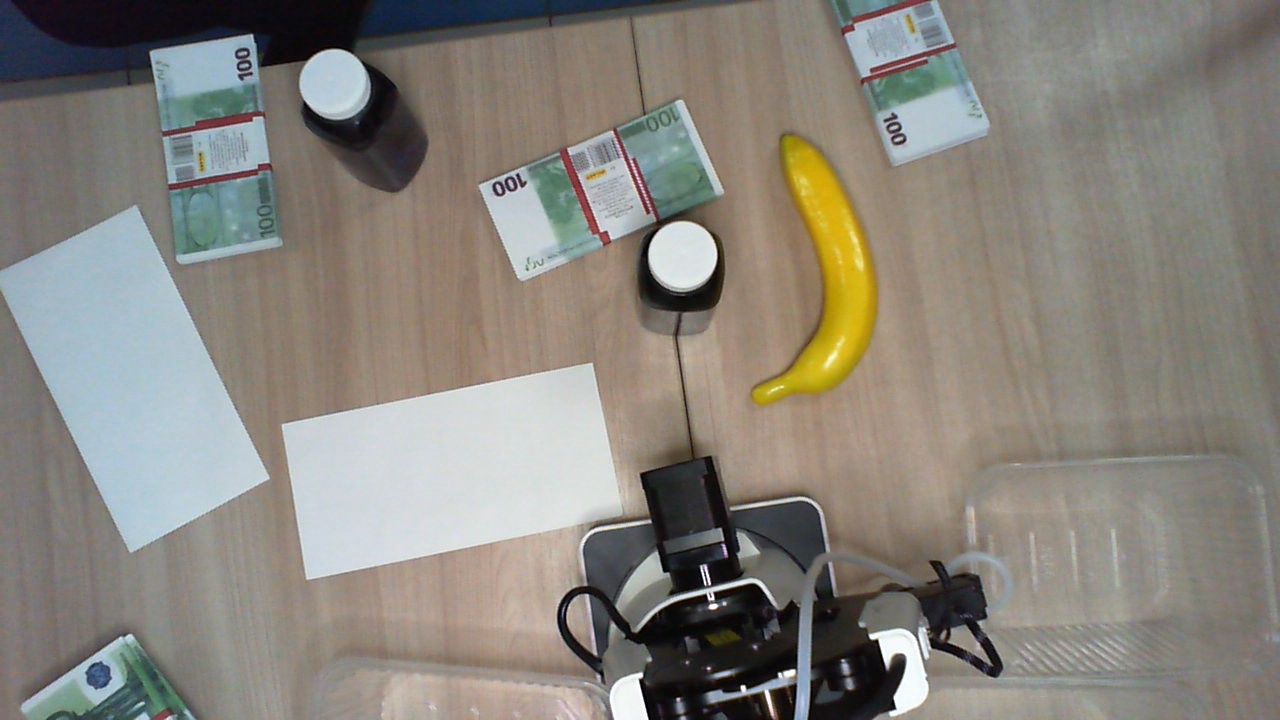banana: (749, 129, 881, 409)
bottle: (294, 46, 393, 147), (626, 223, 738, 310)
convert: (2, 201, 271, 560), (280, 359, 624, 579)
money: (495, 100, 723, 283), (145, 34, 289, 264), (825, 1, 991, 160), (18, 630, 213, 720)
